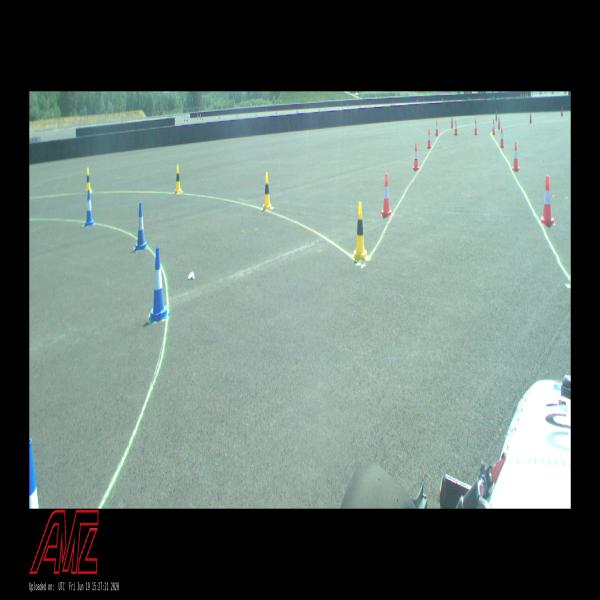blue_cone: (150, 248, 167, 323), (30, 439, 40, 509), (135, 202, 147, 251), (84, 190, 94, 226)
orange_cone: (541, 176, 555, 226), (381, 174, 392, 217), (512, 142, 520, 171), (413, 143, 419, 171), (499, 127, 505, 148), (491, 119, 496, 135), (473, 119, 478, 135), (427, 129, 431, 149), (454, 119, 458, 136), (435, 120, 439, 136)
unknown_cone: (561, 107, 563, 116)
yellow_cone: (353, 202, 366, 259), (261, 172, 274, 210), (175, 164, 183, 192), (85, 168, 93, 192)
